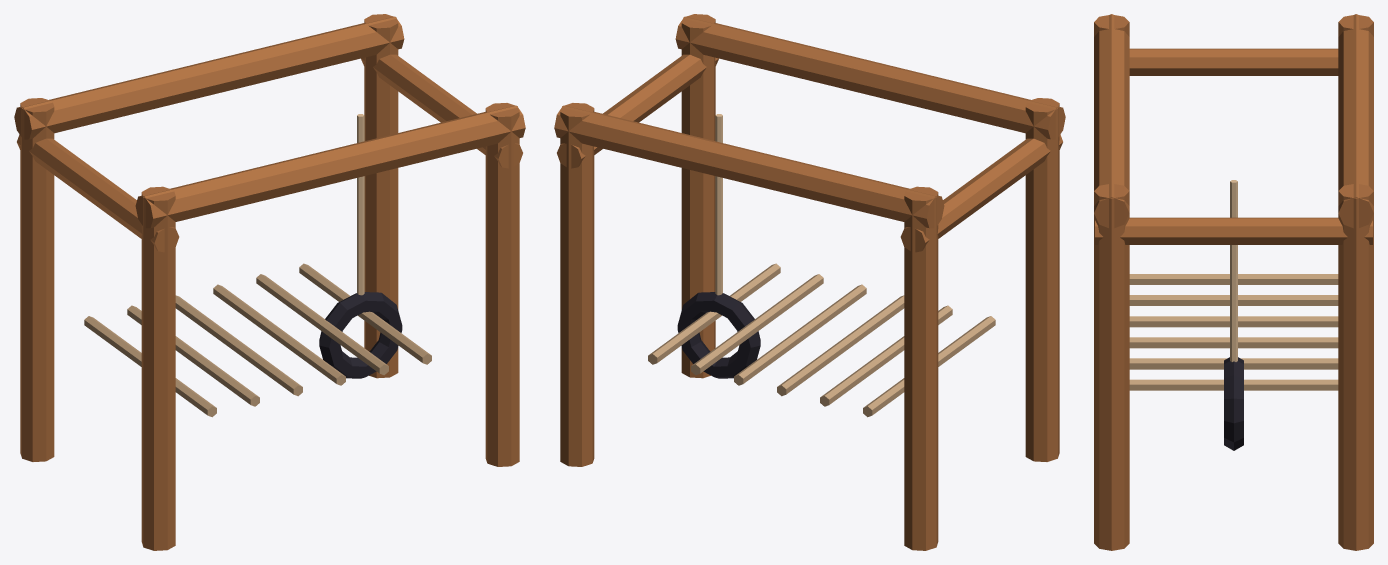
The picture shows the model from 3 angles, left to right: view 1: azimuth 30°, elevation 25°; view 2: azimuth 150°, elevation 25°; view 3: azimuth 270°, elevation 25°; orthographic projection.
Visible parts, largest first — view 1: root_pal_woodWarm, root_pal_khakiLight, root_pal_uiDark, root_pal_canvasTan; view 2: root_pal_woodWarm, root_pal_khakiLight, root_pal_uiDark, root_pal_canvasTan; view 3: root_pal_woodWarm, root_pal_khakiLight, root_pal_uiDark, root_pal_canvasTan.
Boxes of the visible parts, left/top/right/bottom form: root_pal_woodWarm: left=14, top=14, right=525, bottom=550; root_pal_khakiLight: left=84, top=263, right=431, bottom=417; root_pal_uiDark: left=319, top=292, right=402, bottom=378; root_pal_canvasTan: left=357, top=114, right=364, bottom=295; root_pal_woodWarm: left=554, top=14, right=1065, bottom=550; root_pal_khakiLight: left=648, top=263, right=995, bottom=417; root_pal_uiDark: left=677, top=292, right=760, bottom=378; root_pal_canvasTan: left=715, top=114, right=722, bottom=295; root_pal_woodWarm: left=1094, top=14, right=1373, bottom=550; root_pal_khakiLight: left=1129, top=274, right=1338, bottom=390; root_pal_uiDark: left=1224, top=357, right=1243, bottom=450; root_pal_canvasTan: left=1230, top=180, right=1237, bottom=361.
Bounding box in the file's own units: 3.92 × 3.51 × 2.52.
